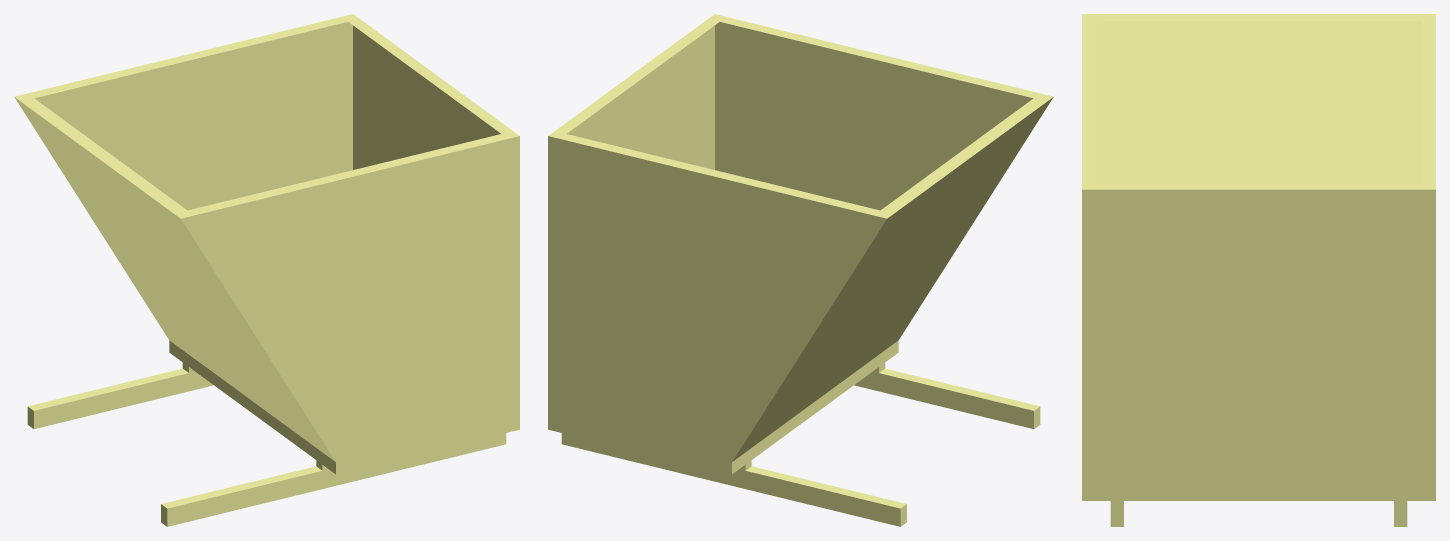
Rendered from jaune.glb.
3 renders of one model, left to right at view 1: azimuth 30°, elevation 25°; view 2: azimuth 150°, elevation 25°; view 3: azimuth 270°, elevation 25°, orthographic. The views are drawn at different scales.
Visible parts, largest first — view 1: imagetostl_mesh1, imagetostl_mesh19, imagetostl_mesh0, imagetostl_mesh34, imagetostl_mesh33, imagetostl_mesh16, imagetostl_mesh12, imagetostl_mesh27, imagetostl_mesh28, imagetostl_mesh7, imagetostl_mesh9; view 2: imagetostl_mesh19, imagetostl_mesh1, imagetostl_mesh0, imagetostl_mesh34, imagetostl_mesh33, imagetostl_mesh14, imagetostl_mesh15, imagetostl_mesh29, imagetostl_mesh28, imagetostl_mesh9, imagetostl_mesh7; view 3: imagetostl_mesh34, imagetostl_mesh0, imagetostl_mesh33, imagetostl_mesh31.
Boxes of the visible parts, x1=… form: imagetostl_mesh1: x1=181, y1=136, x2=519, y2=462; imagetostl_mesh19: x1=35, y1=22, x2=352, y2=210; imagetostl_mesh0: x1=14, y1=97, x2=335, y2=461; imagetostl_mesh34: x1=353, y1=25, x2=500, y2=169; imagetostl_mesh33: x1=14, y1=14, x2=519, y2=218; imagetostl_mesh16: x1=167, y1=433, x2=506, y2=526; imagetostl_mesh12: x1=34, y1=367, x2=213, y2=428; imagetostl_mesh27: x1=336, y1=417, x2=519, y2=474; imagetostl_mesh28: x1=169, y1=340, x2=335, y2=474; imagetostl_mesh7: x1=28, y1=368, x2=188, y2=410; imagetostl_mesh9: x1=161, y1=466, x2=321, y2=508; imagetostl_mesh19: x1=548, y1=136, x2=886, y2=462; imagetostl_mesh1: x1=715, y1=22, x2=1032, y2=210; imagetostl_mesh0: x1=732, y1=97, x2=1053, y2=461; imagetostl_mesh34: x1=567, y1=25, x2=714, y2=169; imagetostl_mesh33: x1=548, y1=14, x2=1053, y2=218; imagetostl_mesh14: x1=561, y1=433, x2=900, y2=526; imagetostl_mesh15: x1=854, y1=367, x2=1033, y2=428; imagetostl_mesh29: x1=548, y1=417, x2=731, y2=474; imagetostl_mesh28: x1=732, y1=340, x2=898, y2=474; imagetostl_mesh9: x1=879, y1=368, x2=1039, y2=410; imagetostl_mesh7: x1=746, y1=466, x2=906, y2=508; imagetostl_mesh34: x1=1082, y1=189, x2=1435, y2=487; imagetostl_mesh0: x1=1096, y1=21, x2=1421, y2=183; imagetostl_mesh33: x1=1082, y1=14, x2=1435, y2=189; imagetostl_mesh31: x1=1082, y1=488, x2=1435, y2=500.
Size of the model in its own units: 1.14 by 1.02 by 0.9724.
